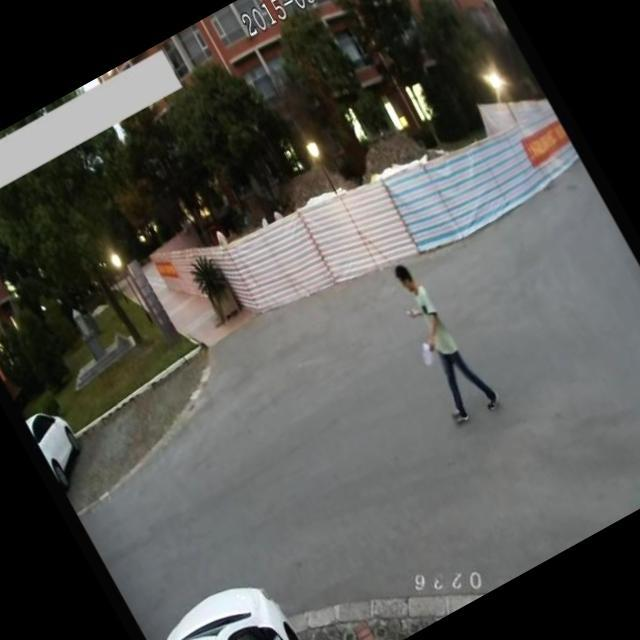person: (370, 244, 510, 437)
